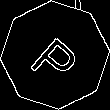P_NE: (24, 24, 86, 86)
